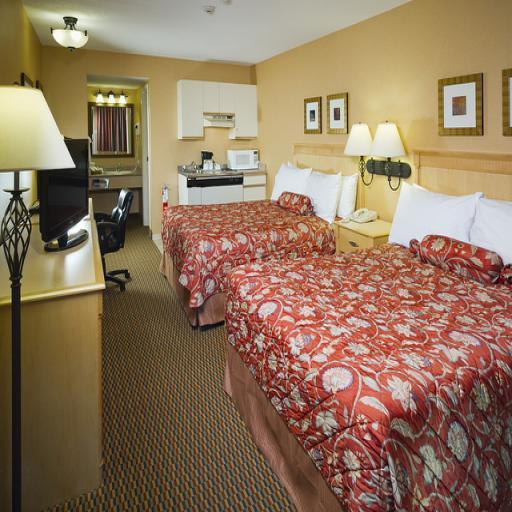bed: (218, 171, 512, 505), (166, 143, 360, 257)
